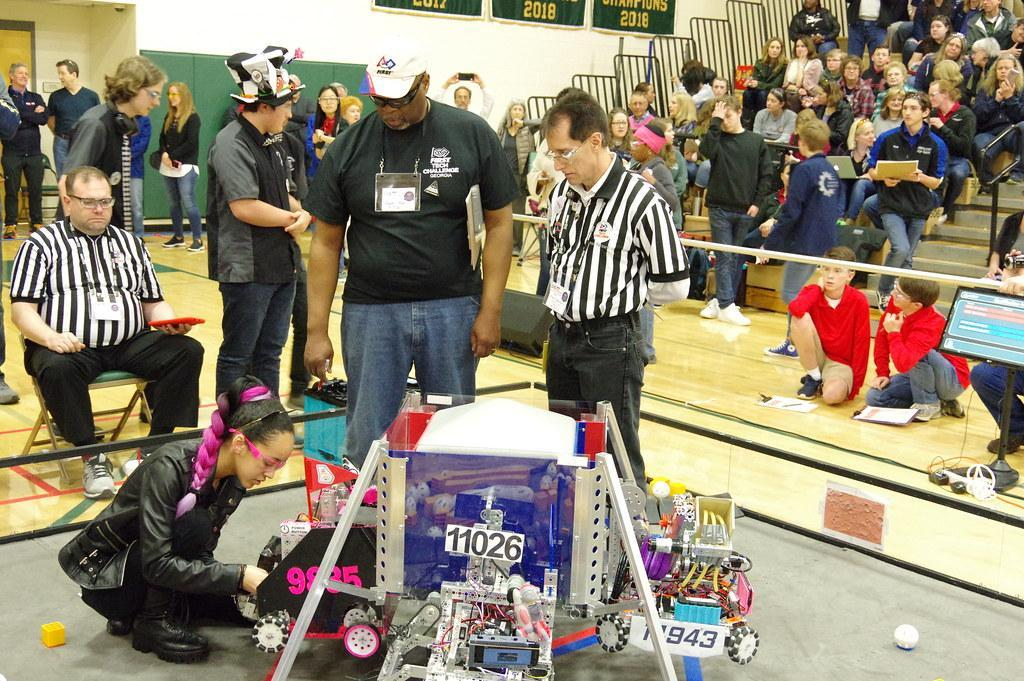robot: (249, 386, 776, 681)
